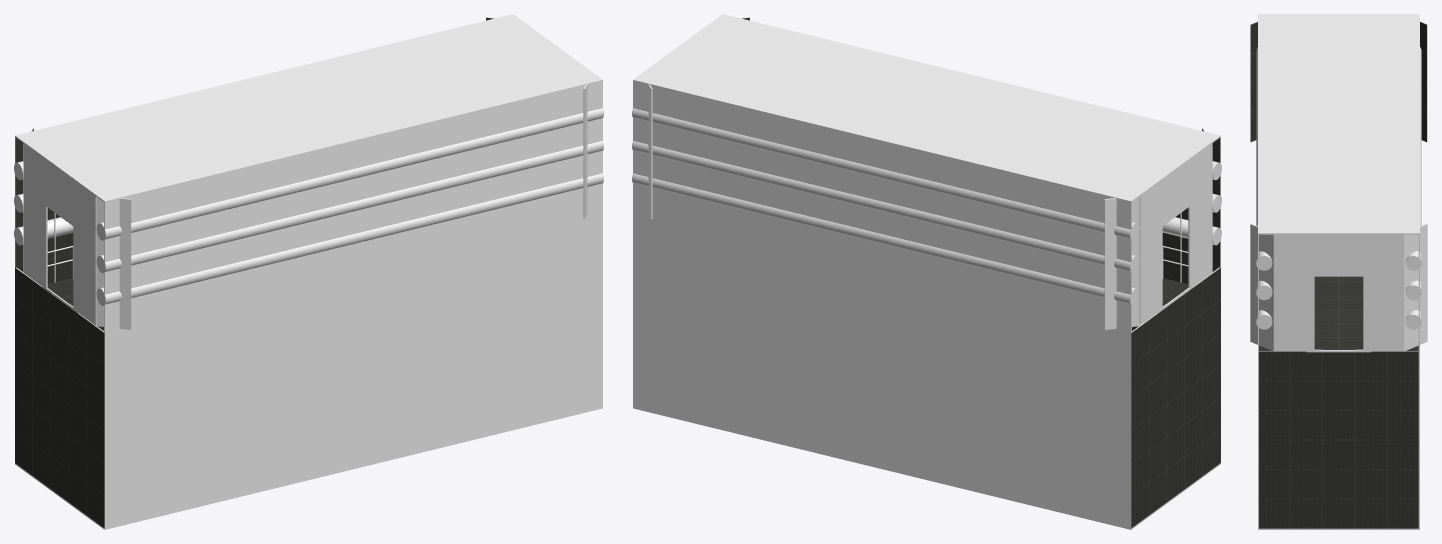
Rendered from CZTunnel3.fbx.
3 renders of one model, left to right at view 1: azimuth 30°, elevation 25°; view 2: azimuth 150°, elevation 25°; view 3: azimuth 270°, elevation 25°, orthographic. The views are drawn at different scales.
Visible parts, largest first — view 1: node_id93, node_id121, node_id84, node_id124 (×3), node_id99, node_id109, node_id90, node_id96; view 2: node_id90, node_id121, node_id84, node_id124 (×3), node_id99, node_id106, node_id93, node_id96; view 3: node_id121, node_id87, node_id103, node_id118, node_id124 (×6), node_id112, node_id115, node_id106, node_id109, node_id96 (×2), node_id90, node_id93.
Boxes of the visible parts, <box> form: node_id93: <box>104,81,602,528</box>; node_id121: <box>15,14,602,202</box>; node_id84: <box>15,267,104,528</box>; node_id124 (×3): <box>96,108,603,305</box>; node_id99: <box>24,143,96,325</box>; node_id109: <box>96,197,131,329</box>; node_id90: <box>15,138,103,330</box>; node_id96: <box>15,407,602,529</box>; node_id90: <box>633,81,1131,528</box>; node_id121: <box>633,14,1220,202</box>; node_id84: <box>1131,267,1220,528</box>; node_id124 (×3): <box>632,108,1139,305</box>; node_id99: <box>1139,143,1211,325</box>; node_id106: <box>1104,197,1139,329</box>; node_id93: <box>1132,138,1220,330</box>; node_id96: <box>633,407,1220,529</box>; node_id121: <box>1258,14,1419,234</box>; node_id87: <box>1259,351,1418,528</box>; node_id103: <box>1274,234,1403,351</box>; node_id118: <box>1314,276,1363,349</box>; node_id124 (×6): <box>1256,47,1421,329</box>; node_id112: <box>1250,223,1273,350</box>; node_id115: <box>1404,223,1427,350</box>; node_id106: <box>1420,22,1426,142</box>; node_id109: <box>1251,22,1257,142</box>; node_id96 (×2): <box>1258,345,1419,529</box>; node_id90: <box>1418,234,1419,528</box>; node_id93: <box>1258,234,1258,528</box>.
Size of what is drawn, in the model's own units: 0.512 by 0.3227 by 0.1751.
106 materials, 13 textured.
